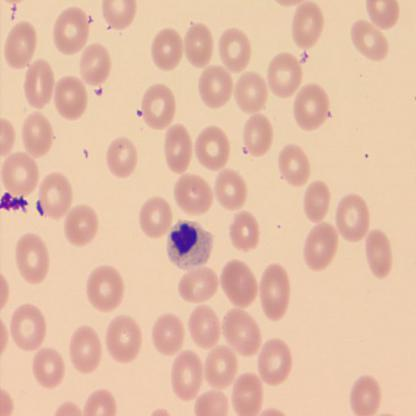NRC: (166, 218, 214, 268)
